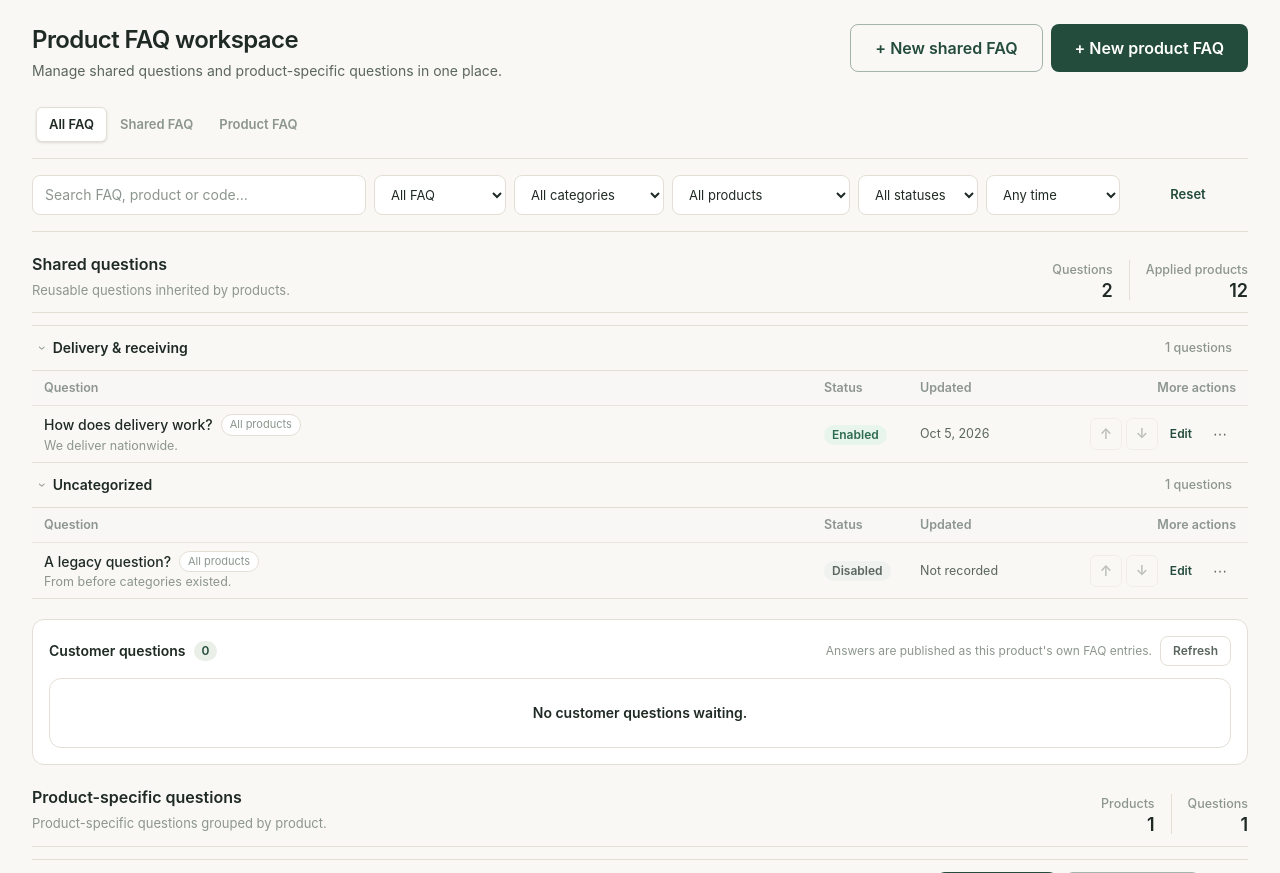
it: FaqWorkspace › switches views between all, shared and product sections
What coordinates should you click on to do the following:
click the tab "Product FAQ"
I would click on:
 (258, 124)
Its box is [206, 107, 310, 142].
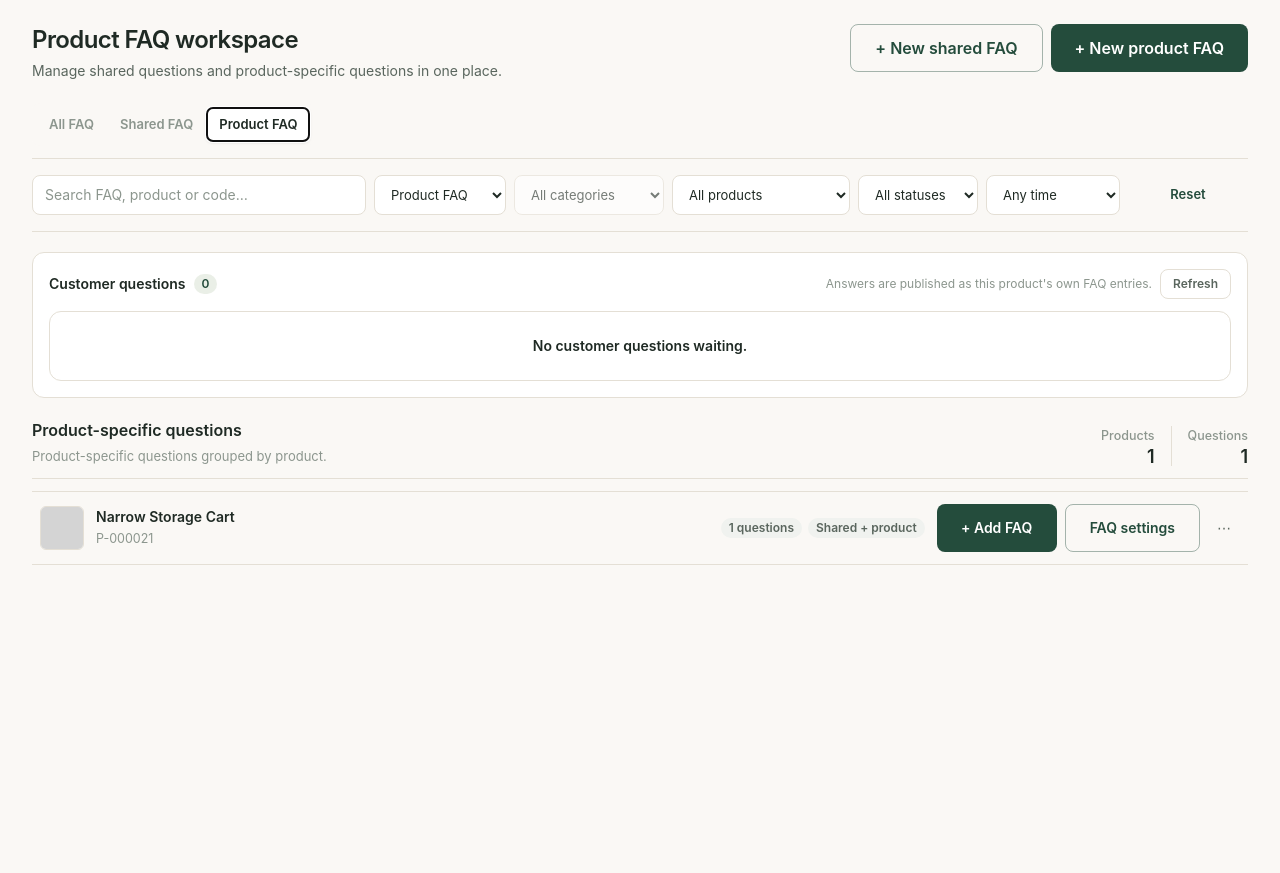
Expected: the element "Product-specific questions" is shown, [32, 418, 1248, 565]
What coordinates should you click on to do the following:
click the tab "Shared FAQ"
I would click on:
 (157, 124)
Its box is [107, 107, 206, 142].
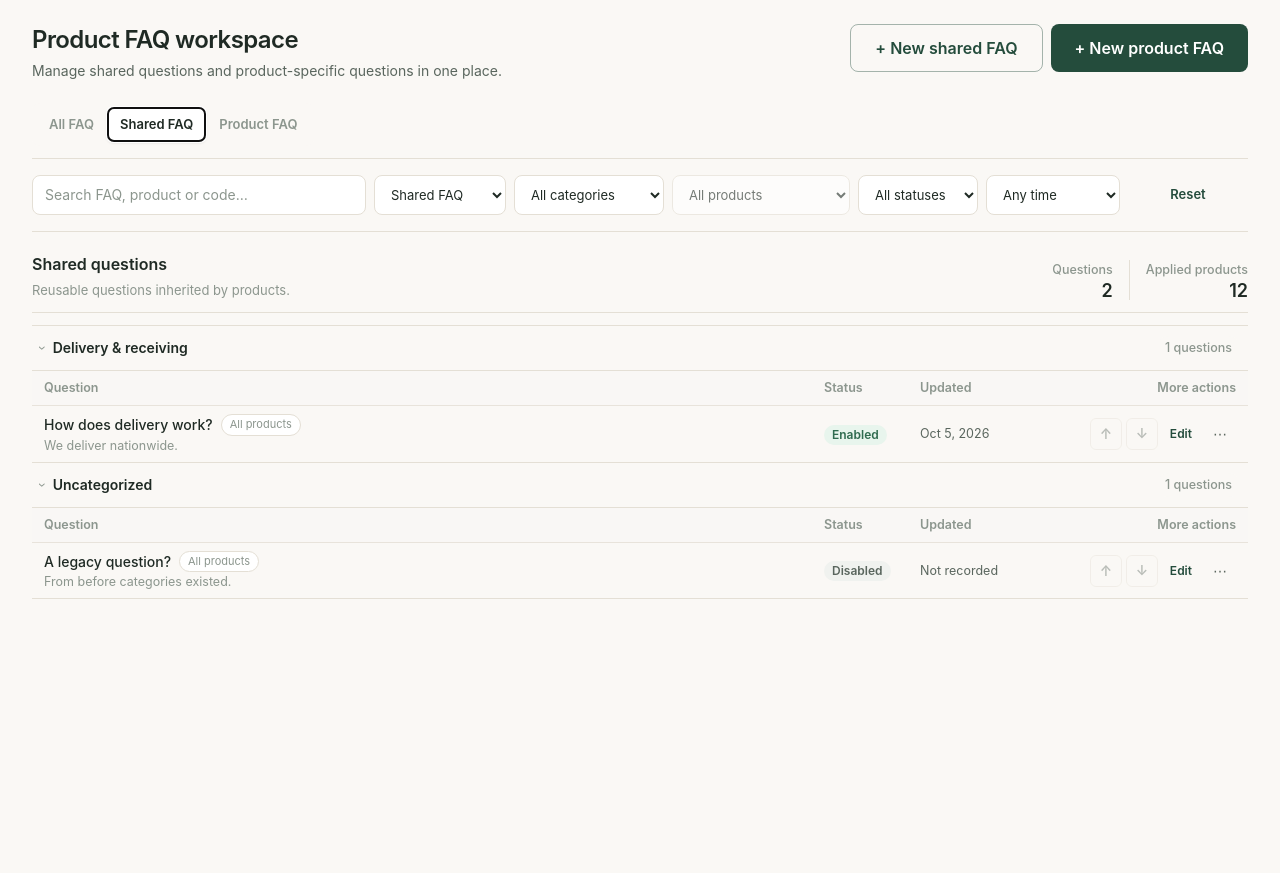
Result: the element "Shared questions" is shown at [32, 252, 1248, 599]
